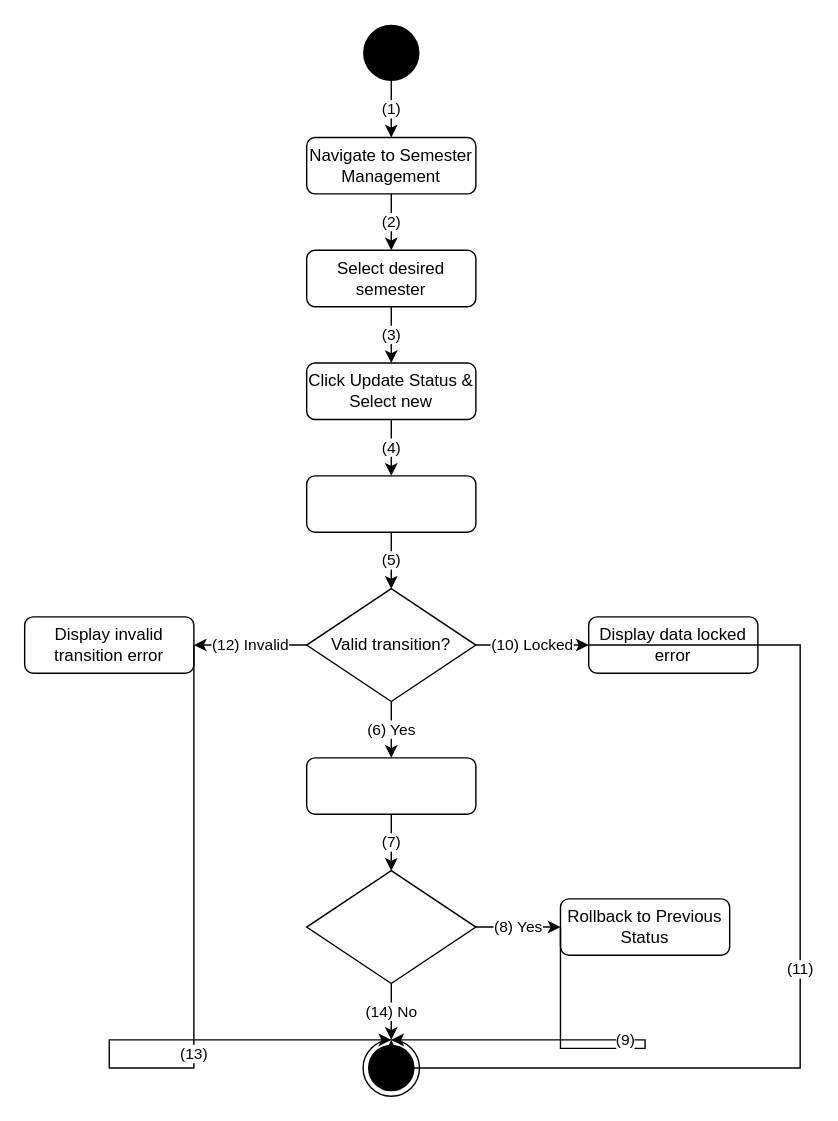
This 838x1121 diagram has some shape labels left out. The centre of each missing label's shape, as x and y in pixels:
"Rollback?" belongs at (x=390, y=926).
"System validates change" belongs at (x=390, y=503).
"Update status & show success" belongs at (x=390, y=785).
